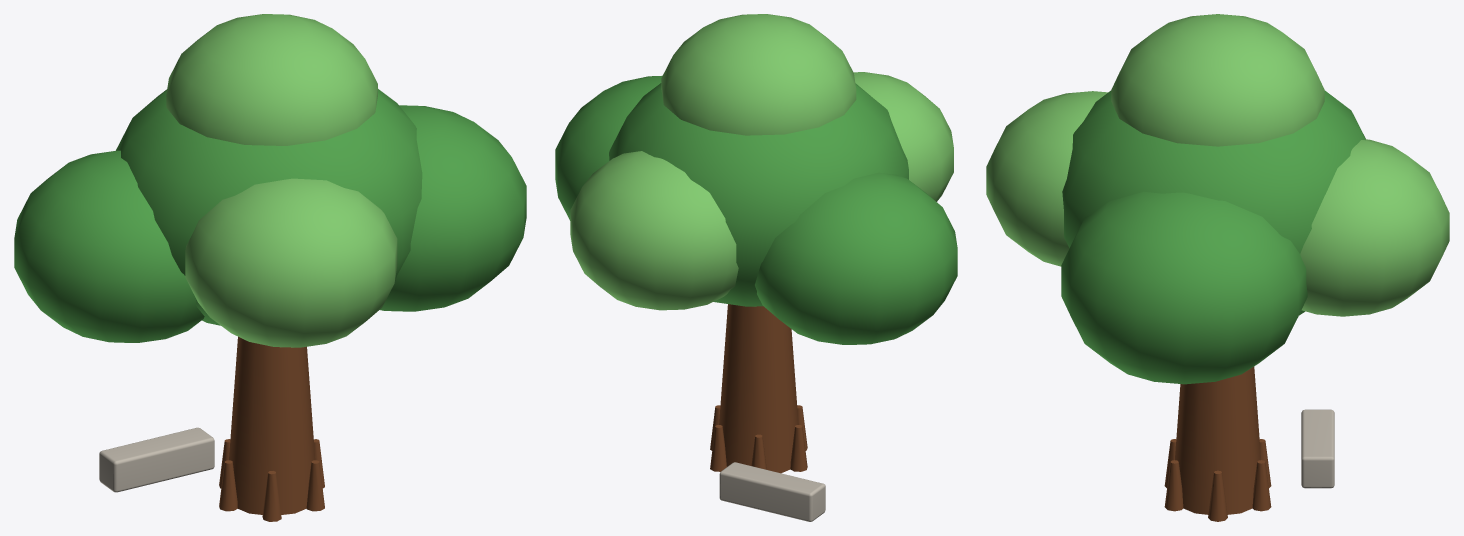
File: banyan.glb
The picture shows the model from 3 angles, left to right: view 1: azimuth 30°, elevation 25°; view 2: azimuth 150°, elevation 25°; view 3: azimuth 270°, elevation 25°; orthographic projection. The views are drawn at different scales.
Visible parts, largest first — view 1: Blob.004, Blob.001, Blob, Blob.005, Blob.002, Trunk, Bench, Root.003, Root.004, Root.005; view 2: Blob.001, Blob, Blob.003, Blob.005, Trunk, Blob.004, Blob.002, Bench, Root.003, Root.001; view 3: Blob.002, Blob, Blob.005, Blob.003, Blob.004, Trunk, Bench, Root, Root.001, Root.005.
Part boxes in pixels (x1,y1,x2,y2): Blob.004: (185, 178, 397, 347); Blob.001: (14, 150, 204, 342); Blob: (116, 89, 422, 325); Blob.005: (166, 14, 377, 145); Blob.002: (380, 105, 526, 311); Trunk: (229, 336, 315, 514); Bench: (99, 427, 214, 492); Root.003: (219, 460, 237, 511); Root.004: (262, 471, 281, 521); Root.005: (306, 460, 324, 511); Blob.001: (755, 172, 957, 344); Blob: (609, 83, 908, 306); Blob.003: (570, 151, 738, 310); Blob.005: (661, 14, 856, 135); Trunk: (719, 304, 798, 473); Blob.004: (853, 72, 953, 201); Blob.002: (555, 75, 662, 220); Bench: (719, 462, 825, 521); Root.003: (790, 425, 807, 471); Root.001: (710, 425, 726, 471); Blob.002: (1061, 191, 1307, 384); Blob: (1062, 90, 1365, 315); Blob.005: (1111, 14, 1324, 146); Blob.003: (1300, 139, 1449, 316); Blob.004: (986, 91, 1107, 266); Trunk: (1175, 366, 1260, 514); Bench: (1301, 409, 1334, 488); Root: (1208, 470, 1227, 521); Root.001: (1252, 460, 1271, 511); Root.005: (1164, 460, 1183, 511).
Bounding box in the file's own units: 6.16 × 6.24 × 5.56.
